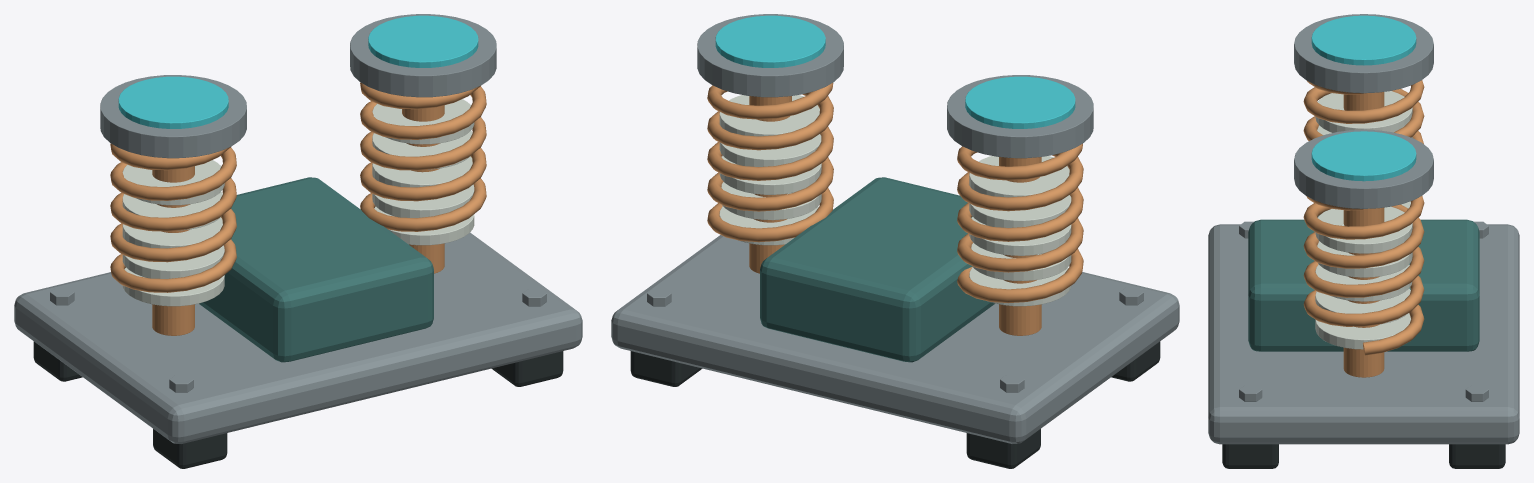
Rendered from arc-module.fbx.
The picture shows the model from 3 angles, left to right: view 1: azimuth 30°, elevation 25°; view 2: azimuth 150°, elevation 25°; view 3: azimuth 270°, elevation 25°; orthographic projection. The views are drawn at different scales.
Visible parts, largest first — view 1: GEO-arc_bolted_base, GEO-arc_power_pack, GEO-arc_wound_conductor, GEO-arc_wound_conductor.001, GEO-arc_emitter_cap.001, GEO-arc_emitter_cap, GEO-arc_charge_ring, GEO-arc_charge_ring.001, GEO-arc_core, GEO-arc_roof_foot, GEO-arc_ceramic_insulator.001, GEO-arc_ceramic_insulator.006 (+11 smaller); view 2: GEO-arc_bolted_base, GEO-arc_power_pack, GEO-arc_wound_conductor, GEO-arc_wound_conductor.001, GEO-arc_emitter_cap.001, GEO-arc_emitter_cap, GEO-arc_charge_ring, GEO-arc_charge_ring.001, GEO-arc_core, GEO-arc_roof_foot.001, GEO-arc_ceramic_insulator.004, GEO-arc_ceramic_insulator.009 (+11 smaller); view 3: GEO-arc_bolted_base, GEO-arc_power_pack, GEO-arc_wound_conductor.001, GEO-arc_emitter_cap, GEO-arc_emitter_cap.001, GEO-arc_charge_ring.001, GEO-arc_charge_ring, GEO-arc_wound_conductor, GEO-arc_core.001, GEO-arc_ceramic_insulator.009, GEO-arc_ceramic_insulator.005, GEO-arc_ceramic_insulator.004 (+8 smaller).
Boxes of the visible parts, bbox=[...] form: GEO-arc_bolted_base: bbox=[14, 232, 582, 443]; GEO-arc_power_pack: bbox=[199, 177, 433, 362]; GEO-arc_wound_conductor: bbox=[110, 143, 236, 292]; GEO-arc_wound_conductor.001: bbox=[360, 82, 486, 231]; GEO-arc_emitter_cap.001: bbox=[350, 14, 496, 97]; GEO-arc_emitter_cap: bbox=[100, 75, 246, 158]; GEO-arc_charge_ring: bbox=[118, 76, 228, 128]; GEO-arc_charge_ring.001: bbox=[368, 15, 478, 67]; GEO-arc_core: bbox=[152, 166, 194, 335]; GEO-arc_roof_foot: bbox=[153, 429, 227, 468]; GEO-arc_ceramic_insulator.001: bbox=[122, 245, 224, 278]; GEO-arc_ceramic_insulator.006: bbox=[372, 184, 474, 217]; GEO-arc_bolted_base: bbox=[611, 235, 1179, 443]; GEO-arc_power_pack: bbox=[760, 177, 994, 362]; GEO-arc_wound_conductor: bbox=[957, 143, 1083, 303]; GEO-arc_wound_conductor.001: bbox=[707, 83, 833, 242]; GEO-arc_emitter_cap.001: bbox=[697, 14, 843, 97]; GEO-arc_emitter_cap: bbox=[947, 75, 1093, 158]; GEO-arc_charge_ring: bbox=[965, 76, 1075, 128]; GEO-arc_charge_ring.001: bbox=[715, 15, 825, 67]; GEO-arc_core: bbox=[999, 157, 1041, 335]; GEO-arc_roof_foot.001: bbox=[966, 429, 1040, 468]; GEO-arc_ceramic_insulator.004: bbox=[969, 156, 1069, 197]; GEO-arc_ceramic_insulator.009: bbox=[719, 95, 819, 136]; GEO-arc_bolted_base: bbox=[1208, 224, 1519, 444]; GEO-arc_power_pack: bbox=[1248, 219, 1479, 351]; GEO-arc_wound_conductor.001: bbox=[1303, 196, 1424, 355]; GEO-arc_emitter_cap: bbox=[1294, 14, 1433, 93]; GEO-arc_emitter_cap.001: bbox=[1294, 129, 1433, 208]; GEO-arc_charge_ring.001: bbox=[1311, 131, 1416, 181]; GEO-arc_charge_ring: bbox=[1311, 15, 1416, 65]; GEO-arc_wound_conductor: bbox=[1303, 80, 1424, 217]; GEO-arc_core.001: bbox=[1343, 207, 1384, 377]; GEO-arc_ceramic_insulator.009: bbox=[1315, 206, 1412, 253]; GEO-arc_ceramic_insulator.005: bbox=[1315, 313, 1410, 349]; GEO-arc_ceramic_insulator.004: bbox=[1315, 91, 1412, 132].
Bounding box in the file's own units: 0.96 × 0.6695 × 0.66.
